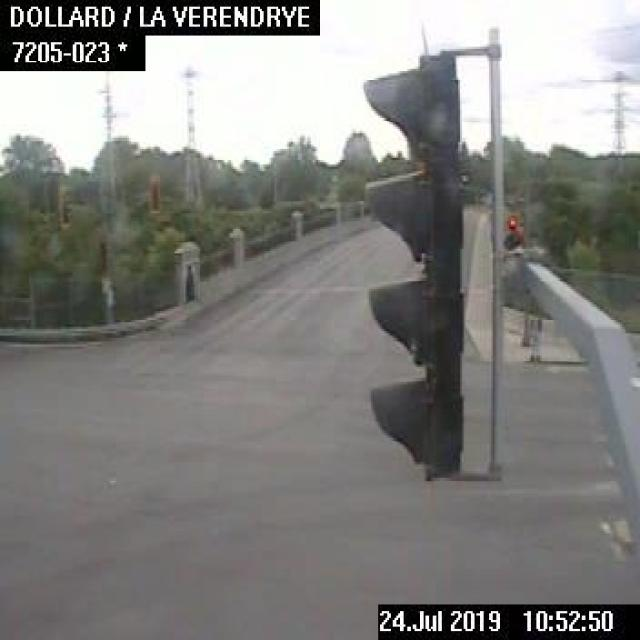pedestrian: (524, 308, 542, 366)
